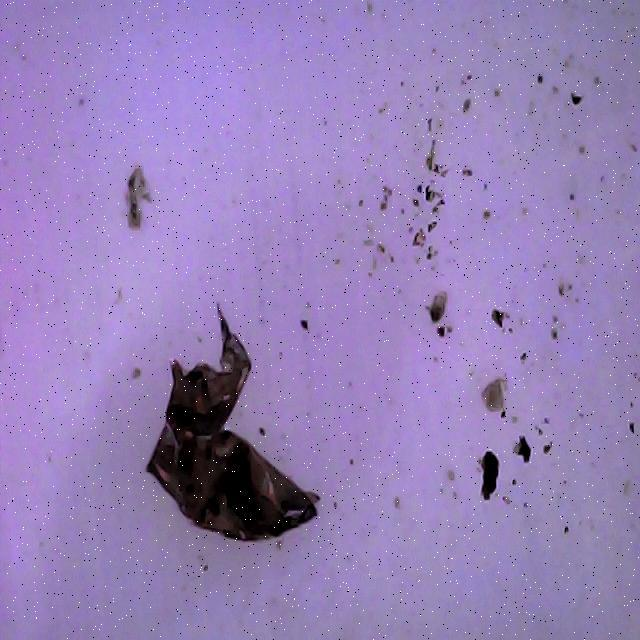fragments: (96, 305, 326, 577)
